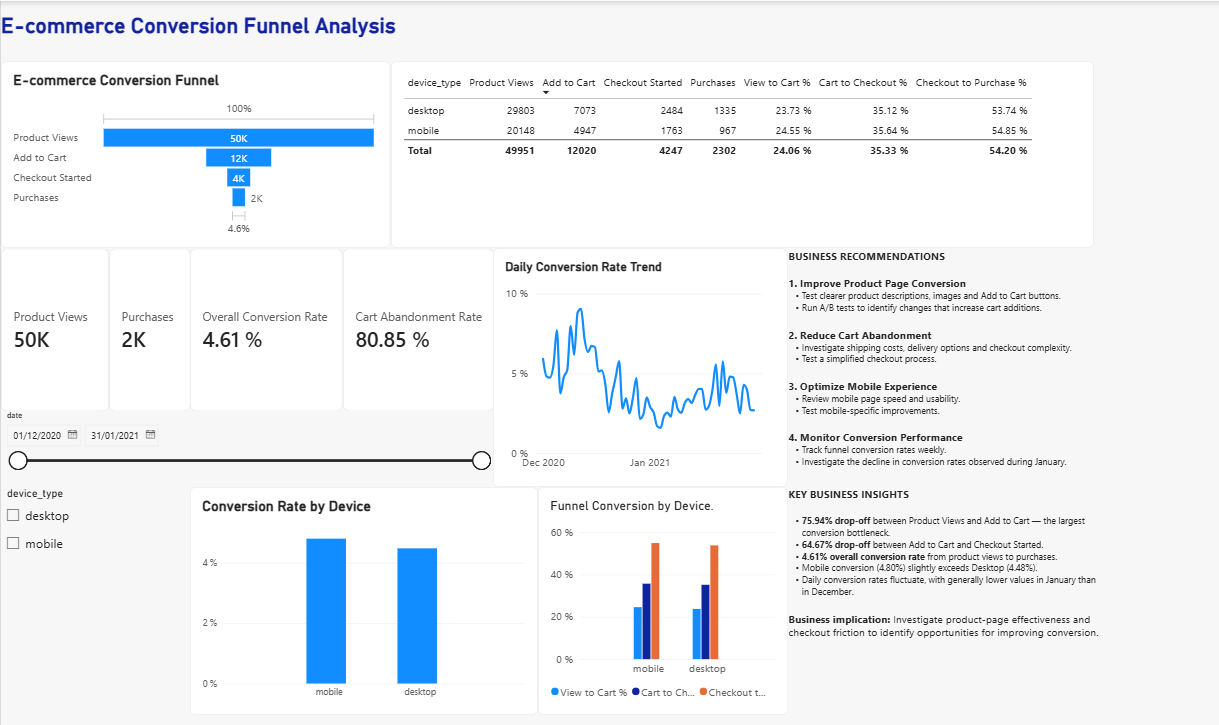

What the dashboard file says about the page in this screenshot:
{"tool":"powerbi","page":{"name":"Page 1","canvas":[1920,1080],"ordinal":0},"visuals":[{"type":"tableEx","fields":{"Values":["Funnel.device_type","Funnel.Product Views","Funnel.Add to Cart","Funnel.Checkout Started","Funnel.Purchases","Funnel.View to Cart %","Funnel.Cart to Checkout %","Funnel.Checkout to Purchase %"]},"box":[526.2,81.2,950,252.5],"z":0},{"type":"funnel","title":"E-commerce Conversion Funnel","fields":{"Category":["Funnel Stages.Stage"],"Y":["Funnel Stages.Funnel Value"]},"box":[0,81.2,526.2,252.5],"z":1},{"type":"cardVisual","fields":{"Data":["Funnel.Product Views"]},"box":[0,334,146,220],"z":2},{"type":"cardVisual","fields":{"Data":["Funnel.Purchases"]},"box":[146,334,110,220],"z":3},{"type":"cardVisual","fields":{"Data":["Funnel.Overall Conversion Rate"]},"box":[256,334,206,220],"z":4},{"type":"cardVisual","fields":{"Data":["Funnel.Cart Abandonment Rate"]},"box":[462,334,204,220],"z":5},{"type":"clusteredColumnChart","title":"Conversion Rate by Device","fields":{"Category":["Funnel.device_type"],"Y":["Funnel.Overall Conversion Rate"]},"box":[256,656,470,308],"z":6},{"type":"clusteredColumnChart","title":"Funnel Conversion by Device.","fields":{"Category":["Funnel.device_type"],"Y":["Funnel.View to Cart %","Funnel.Cart to Checkout %","Funnel.Checkout to Purchase %"]},"box":[726,656,338,308],"z":7},{"type":"slicer","fields":{"Values":["Funnel.device_type"]},"box":[0,656,218,318],"z":8},{"type":"slicer","fields":{"Values":["Funnel.date"]},"box":[0,554,666,102],"z":9},{"type":"lineChart","title":"Daily Conversion Rate Trend","fields":{"Category":["Funnel.date"],"Y":["Funnel.Overall Conversion Rate"]},"box":[666,334,398,322],"z":10},{"type":"textbox","box":[1064,656,426,308],"z":11},{"type":"textbox","box":[1064,334,412,746],"z":12},{"type":"textbox","title":"E-commerce Conversion Funnel Analysis","box":[0,16.2,1920,56.2],"z":13}]}

Visuals, with their boxes on the page's 1920x1080 design canvas (x1, y1, x2, y2). These are canvas units, not pixel positions in the 1219x725 screenshot, which may show the page scaled, cropped or inside an application window:
tableEx - Funnel.device_type x Funnel.Product Views: locate(526, 81, 1476, 334)
"E-commerce Conversion Funnel" funnel: locate(0, 81, 526, 334)
cardVisual - Funnel.Product Views: locate(0, 334, 146, 554)
cardVisual - Funnel.Purchases: locate(146, 334, 256, 554)
cardVisual - Funnel.Overall Conversion Rate: locate(256, 334, 462, 554)
cardVisual - Funnel.Cart Abandonment Rate: locate(462, 334, 666, 554)
"Conversion Rate by Device" clusteredColumnChart: locate(256, 656, 726, 964)
"Funnel Conversion by Device." clusteredColumnChart: locate(726, 656, 1064, 964)
slicer - Funnel.device_type: locate(0, 656, 218, 974)
slicer - Funnel.date: locate(0, 554, 666, 656)
"Daily Conversion Rate Trend" lineChart: locate(666, 334, 1064, 656)
textbox: locate(1064, 656, 1490, 964)
textbox: locate(1064, 334, 1476, 1080)
"E-commerce Conversion Funnel Analysis" textbox: locate(0, 16, 1920, 72)
